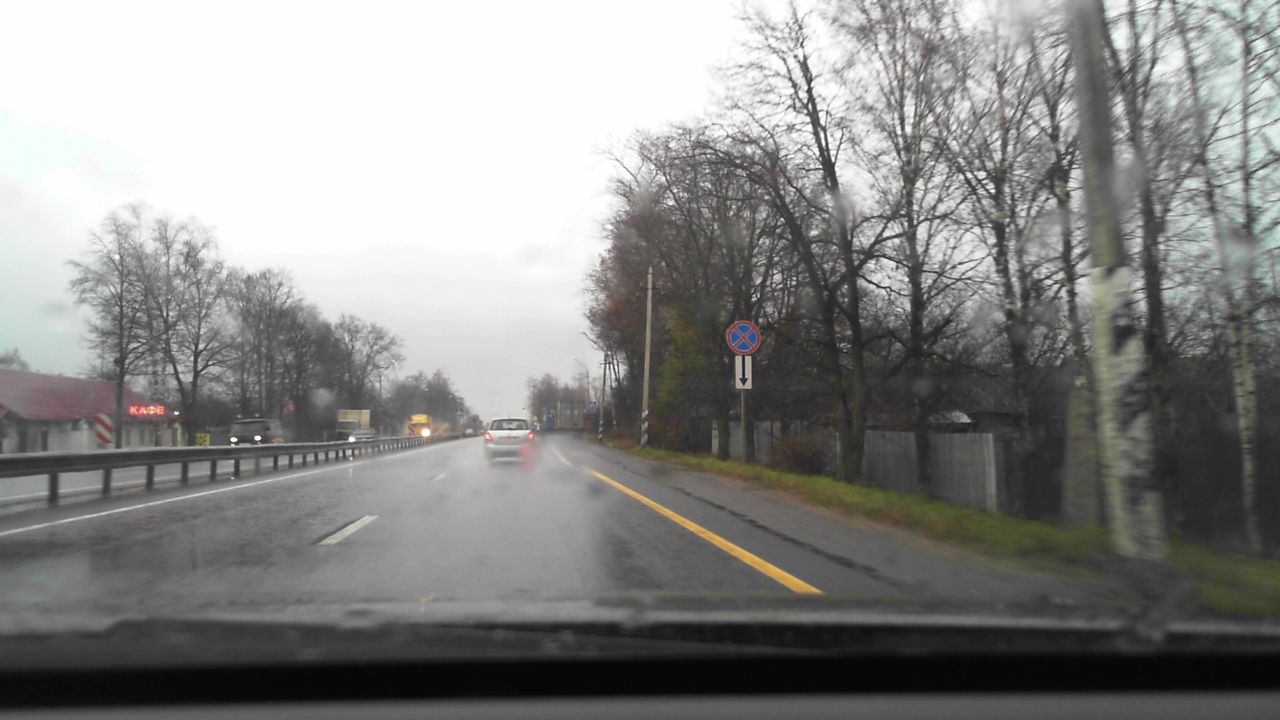No Parking: (726, 321, 761, 355)
